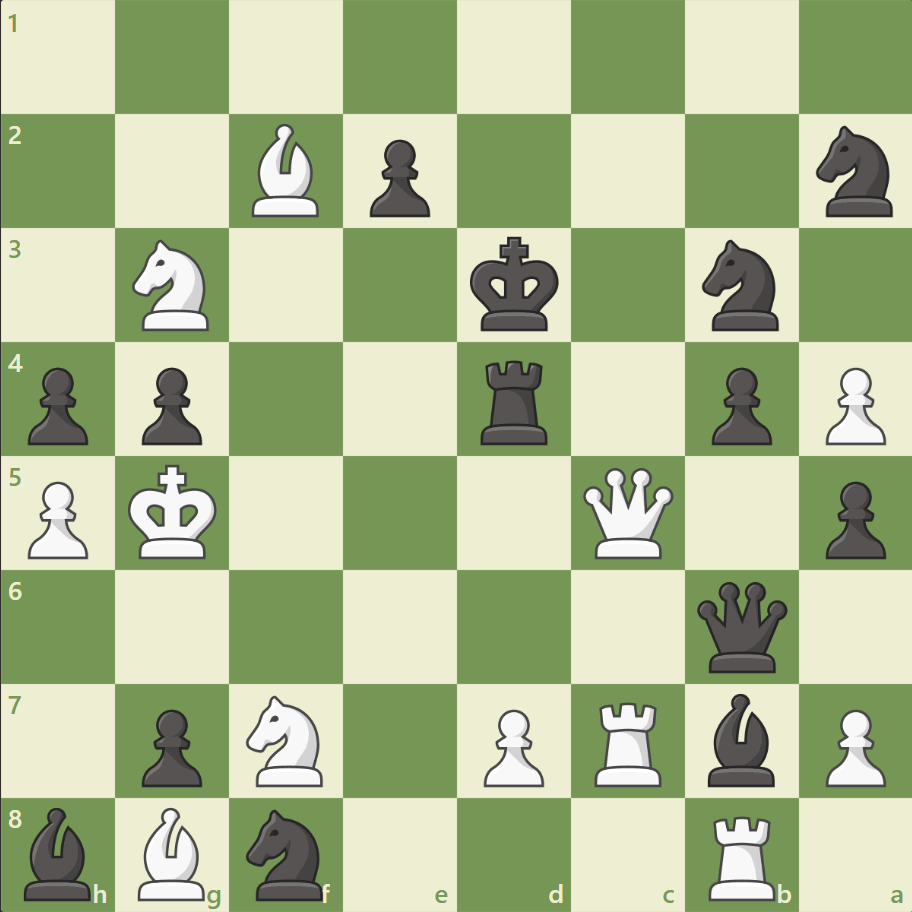B: (131, 801, 215, 904), (244, 120, 328, 222)
K: (124, 458, 224, 566)
N: (124, 234, 222, 337), (238, 688, 335, 791)
P: (474, 700, 549, 791), (20, 473, 95, 564), (815, 700, 889, 791), (815, 359, 889, 450)
Q: (578, 463, 677, 562)
R: (700, 806, 783, 904), (587, 693, 670, 790)
b: (17, 801, 101, 904), (698, 687, 782, 790)
k: (465, 231, 565, 339)
n: (692, 234, 789, 337), (238, 802, 335, 904), (806, 121, 903, 223)
p: (133, 700, 208, 791), (701, 359, 776, 450), (133, 359, 208, 450), (20, 359, 95, 450), (815, 473, 889, 564), (361, 132, 435, 223)
q: (691, 576, 790, 676)
r: (473, 352, 556, 449)
